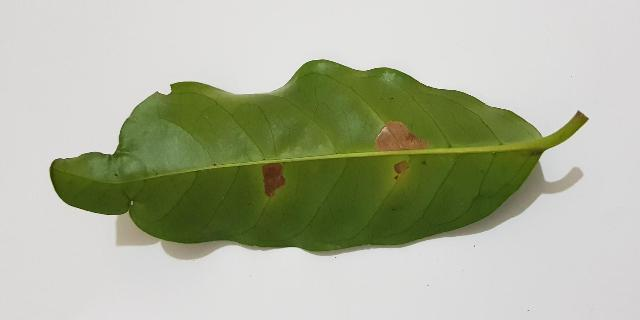cercospora: (375, 121, 429, 151), (262, 163, 285, 197), (393, 162, 408, 179)
